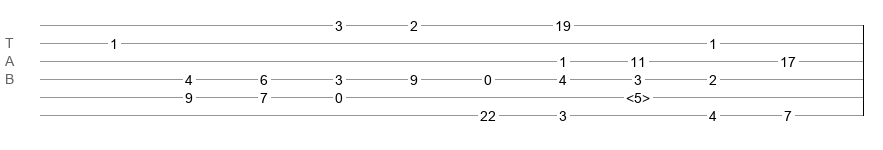0: (335, 90, 343, 100), (484, 72, 492, 82)
1: (110, 36, 118, 46), (559, 54, 567, 64), (709, 36, 717, 46)
11: (630, 54, 646, 64)
17: (780, 54, 796, 64)
19: (555, 18, 571, 28)
2: (410, 18, 418, 28), (709, 72, 717, 82)
22: (480, 108, 496, 118)
3: (335, 72, 343, 82), (335, 18, 343, 28), (559, 108, 567, 118), (634, 72, 642, 82)
4: (185, 72, 193, 82), (559, 72, 567, 82), (709, 108, 717, 118)
6: (260, 72, 268, 82)
7: (260, 90, 268, 100), (784, 108, 792, 118)
9: (185, 90, 193, 100), (410, 72, 418, 82)
harmonic: (626, 90, 650, 100)
